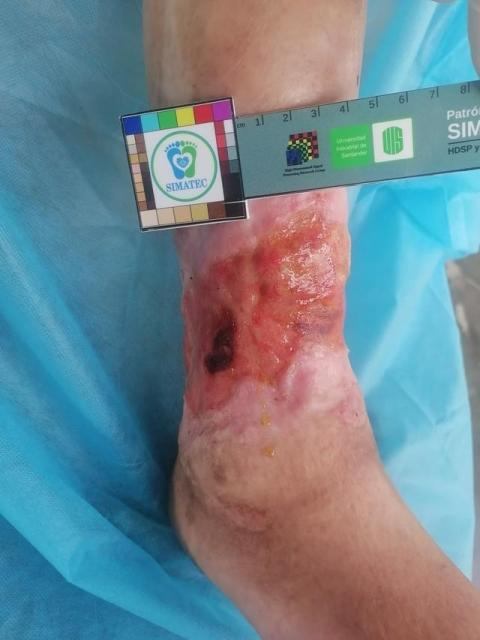wound: (182, 210, 351, 427)
